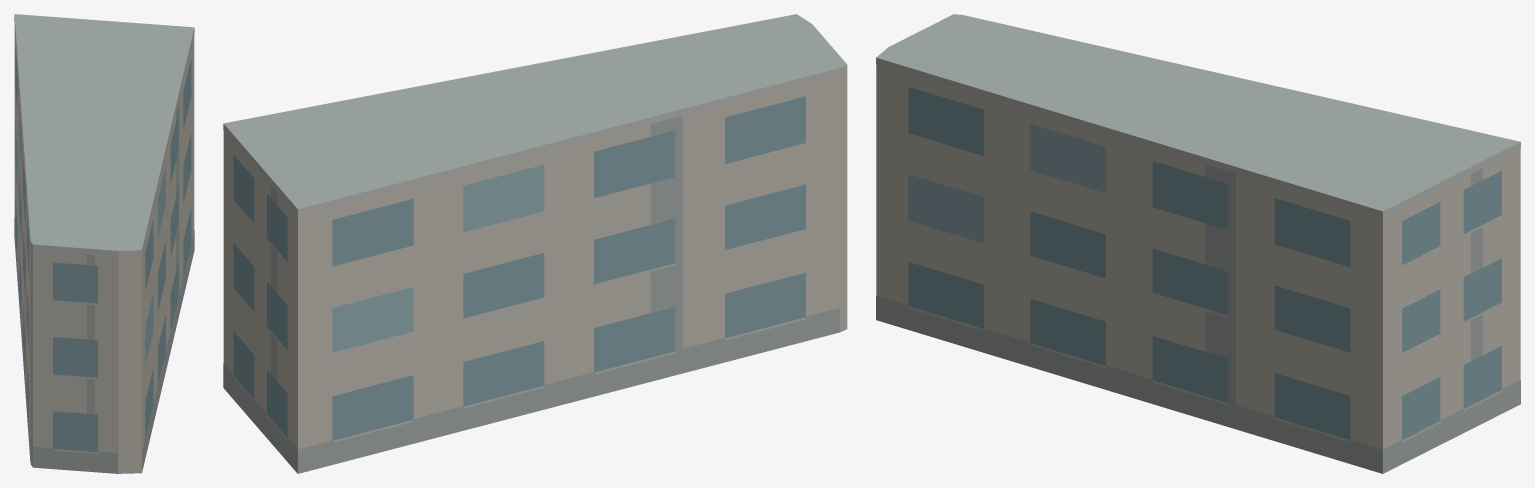
File: survey-upis-32953574.glb
3 renders of one model, left to right at view 1: azimuth 30°, elevation 25°; view 2: azimuth 150°, elevation 25°; view 3: azimuth 270°, elevation 25°, orthographic. The views are drawn at different scales.
Visible parts, largest first — view 1: survey-upis-32953574.tmp; view 2: survey-upis-32953574.tmp; view 3: survey-upis-32953574.tmp.
Part boxes in pixels (bbox=[...]): survey-upis-32953574.tmp: bbox=[14, 14, 194, 473]; survey-upis-32953574.tmp: bbox=[223, 14, 847, 473]; survey-upis-32953574.tmp: bbox=[876, 14, 1520, 473].
Bounding box in the file's own units: 14.77 × 9.15 × 20.37.
